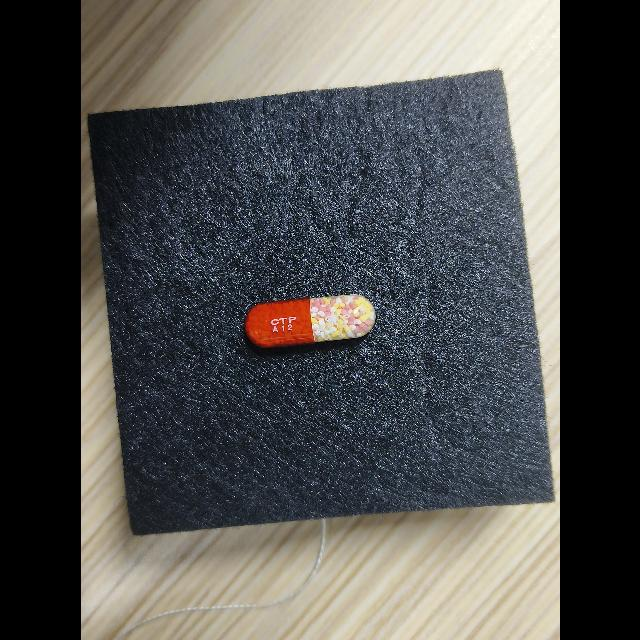Intact Capsule: (244, 294, 375, 347)
